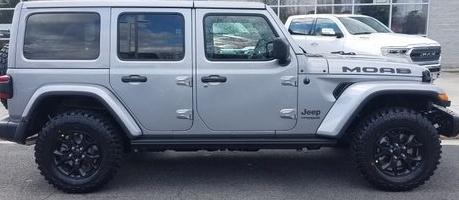SUV: (1, 3, 459, 193)
